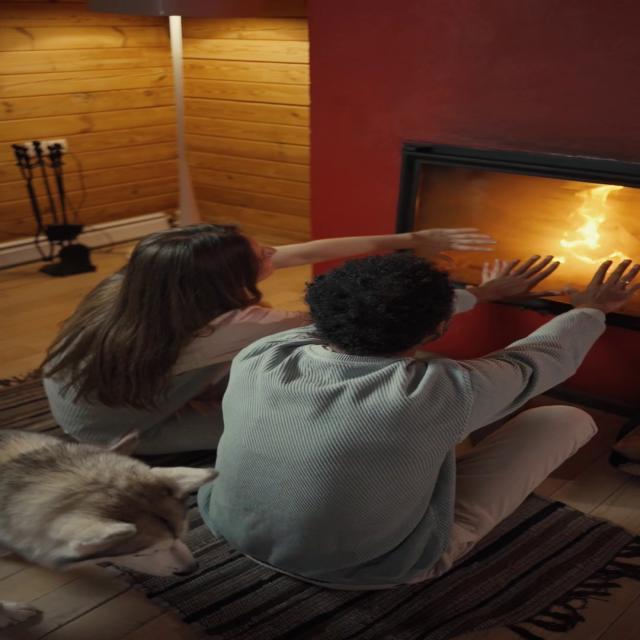Fire: (541, 182, 634, 276)
